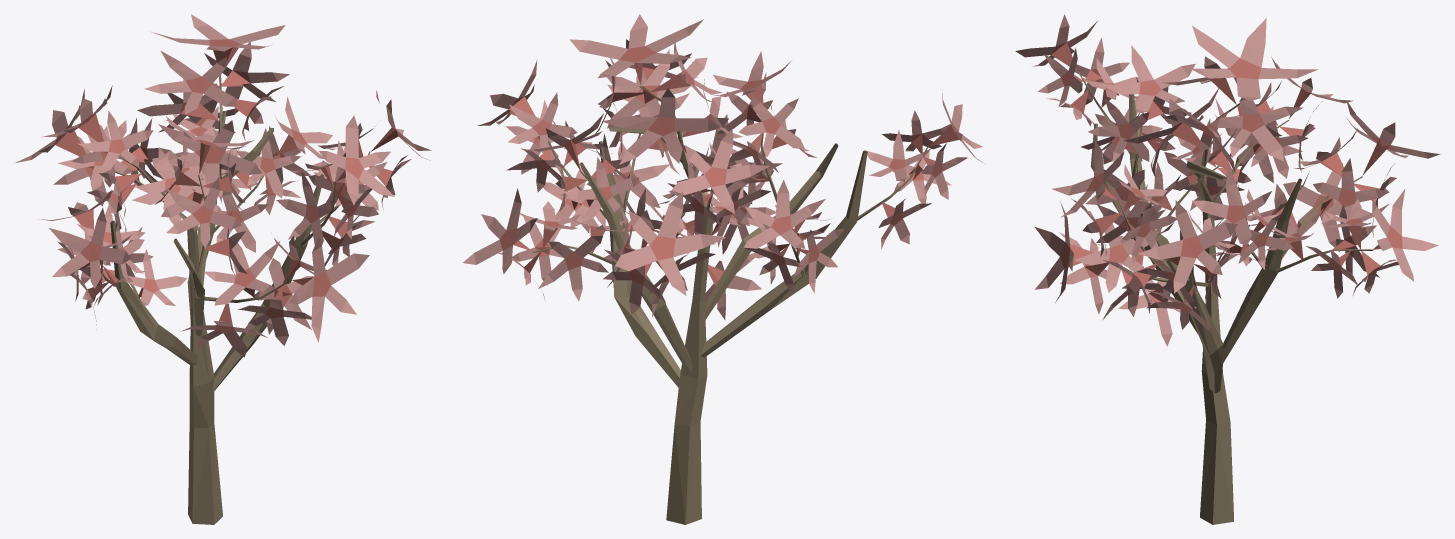
The model's file is Peach_3_1.fbx.
The picture shows the model from 3 angles, left to right: view 1: azimuth 30°, elevation 25°; view 2: azimuth 150°, elevation 25°; view 3: azimuth 270°, elevation 25°; orthographic projection.
Parts seen in each view (by area): view 1: Peach_3_1; view 2: Peach_3_1; view 3: Peach_3_1.
Part boxes in pixels (<box>): Peach_3_1: <box>15,14,431,524</box>; Peach_3_1: <box>463,14,984,524</box>; Peach_3_1: <box>1015,14,1440,524</box>.
Bounding box in the file's own units: 285 × 303 × 240.
